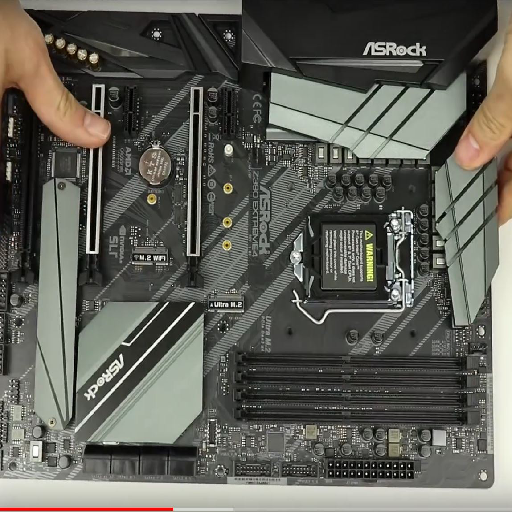CPU: (290, 211, 411, 304)
GPU: (79, 82, 107, 287), (179, 84, 205, 289)
MOTHERBOARD: (1, 9, 498, 487)
RAM: (232, 353, 481, 426)
SSD: (208, 292, 245, 316), (133, 247, 170, 270)
